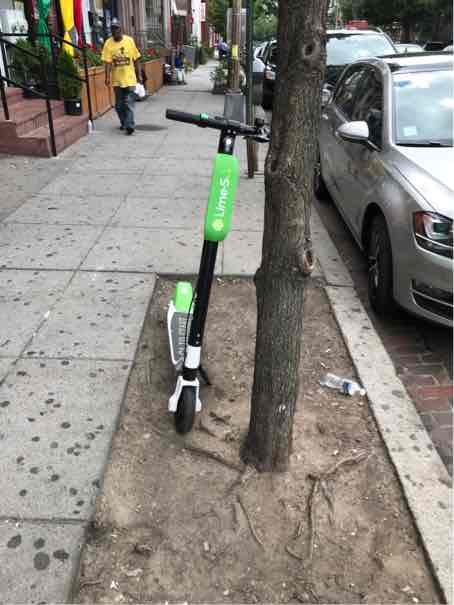scooter: (144, 99, 269, 444)
